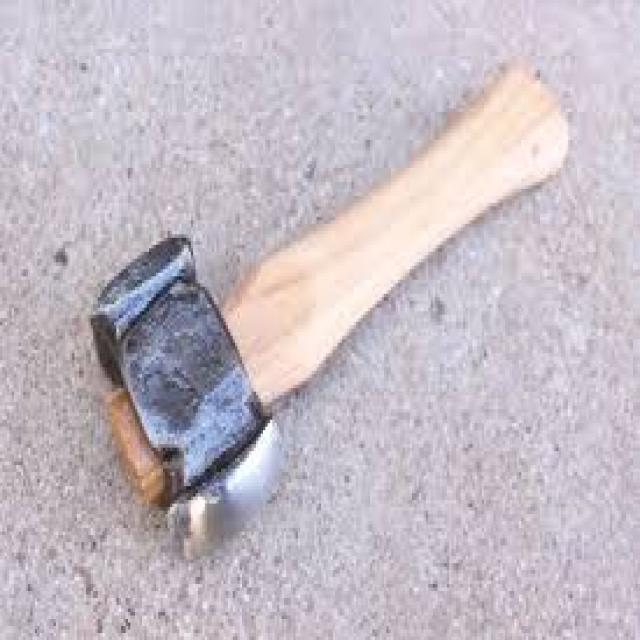hammer: (84, 49, 582, 570)
